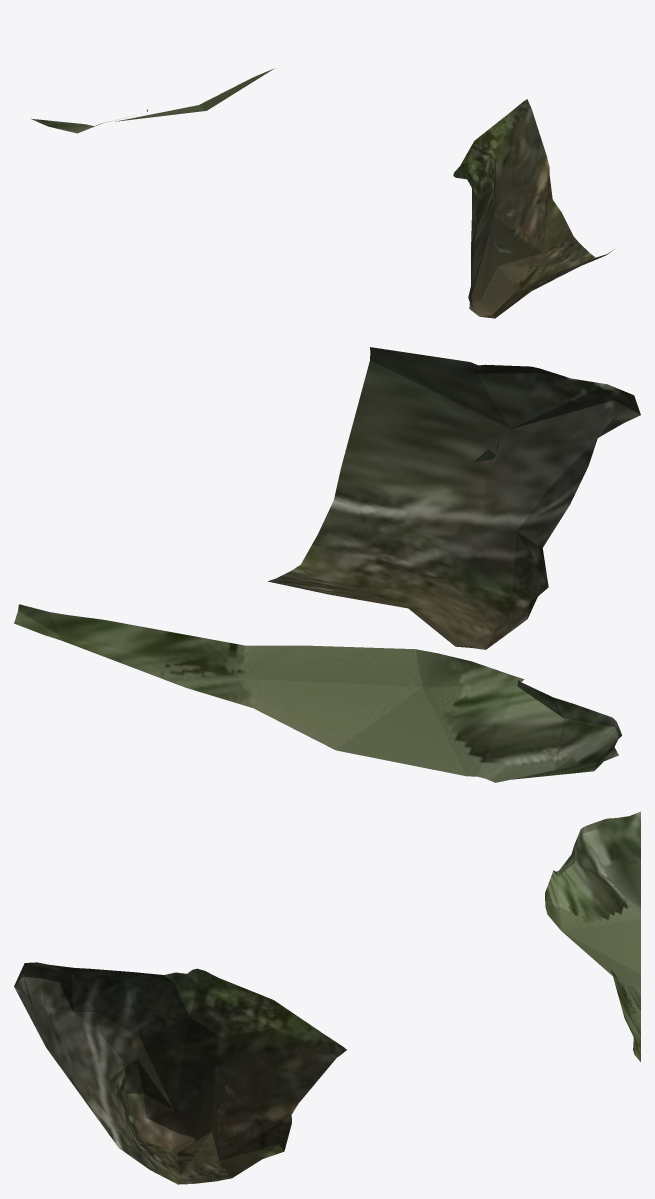
The picture shows the model from 3 angles, top to bottom: view 1: azimuth 30°, elevation 25°; view 2: azimuth 150°, elevation 25°; view 3: azimuth 270°, elevation 25°; orthographic projection. The views are drawn at different scales.
Size of the model in its own units: 2.59 by 0.8638 by 2.88.
Materials: 1 (1 with a texture image).
